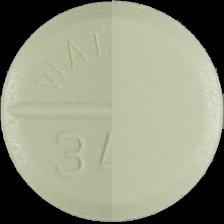55289-488: (0, 0, 224, 224)
